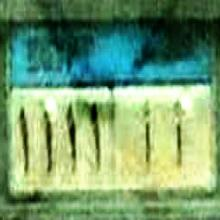1: (37, 98, 56, 178), (64, 103, 82, 175), (88, 99, 104, 177), (16, 99, 31, 181)
alif: (171, 90, 190, 176), (140, 97, 154, 177)
